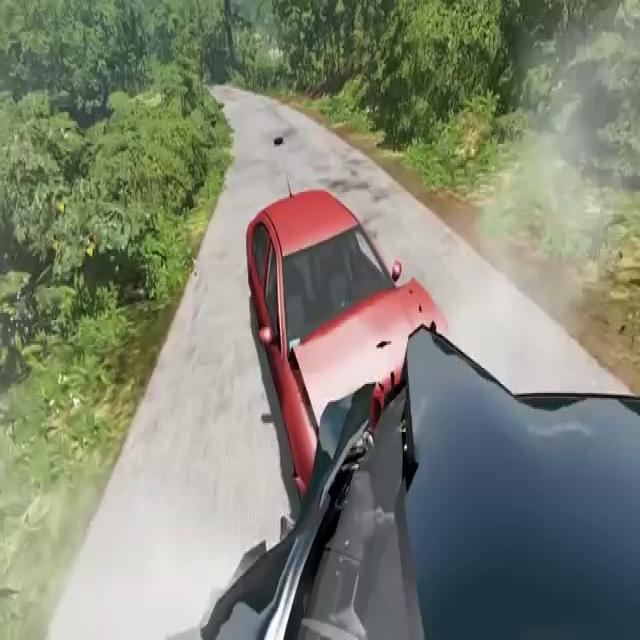moderate: (182, 172, 640, 640)
